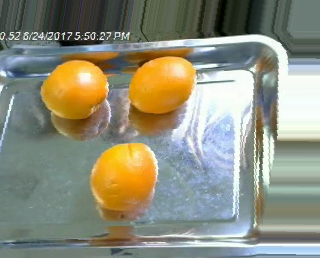Orange: (90, 143, 158, 211), (40, 58, 108, 119), (128, 55, 196, 114)
